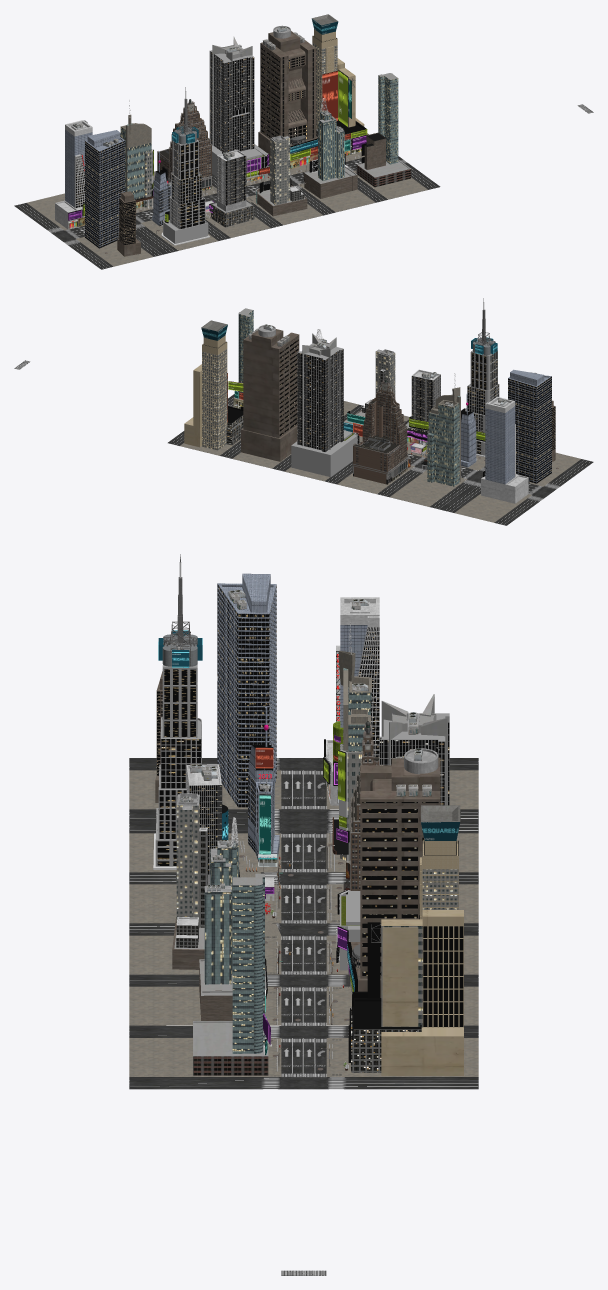
Rendered from timesquare-web.glb.
3 renders of one model, top to bottom at view 1: azimuth 30°, elevation 25°; view 2: azimuth 150°, elevation 25°; view 3: azimuth 270°, elevation 25°, orthographic. The views are drawn at different scales.
Parts seen in each view (by area): view 1: Plane.030, Cube.094, Cube.080, Cube.081, Cube.110, Cube.009, Plane.001, Cube.005, Cube.118, Plane.043, Cube.088, Cube.048 (+24 smaller); view 2: Cube.094, Plane.030, Cube.080, Cube.081, PB_Material #2_0, Cube.110, Cube.118, Cube.088, Plane.001, Cube.009, Cube.042, Cube.005 (+10 smaller); view 3: Plane.030, Cube.089, Cube.009, Cube.094, Plane.001, Cube.110, Plane.043, Cube.088, Cube.118, Plane.038, Cube.005, Cube.096 (+17 smaller).
Part boxes in pixels (x1,y1,x2,y2): Plane.030: (136, 146, 440, 253); Cube.094: (258, 31, 317, 168); Cube.080: (209, 44, 267, 182); Cube.081: (210, 46, 254, 153); Cube.110: (85, 141, 124, 248); Cube.009: (85, 130, 124, 248); Plane.001: (14, 193, 165, 269); Cube.005: (163, 139, 208, 243); Cube.118: (55, 120, 92, 229); Plane.043: (378, 73, 398, 164); Cube.088: (311, 14, 338, 129); Cube.048: (126, 123, 151, 208); Cube.094: (241, 329, 299, 461); Plane.030: (168, 391, 485, 509); Cube.080: (291, 343, 357, 477); Cube.081: (297, 349, 343, 451); PB_Material #2_0: (352, 378, 407, 484); Cube.110: (508, 376, 551, 483); Cube.118: (481, 396, 528, 503); Cube.088: (201, 320, 227, 450); Plane.001: (442, 452, 593, 525); Cube.009: (508, 369, 551, 483); Cube.042: (427, 400, 459, 486); Cube.005: (465, 350, 499, 455); Plane.030: (129, 821, 478, 1089); Cube.089: (381, 910, 463, 1075); Cube.009: (217, 573, 276, 806); Cube.094: (350, 757, 440, 997); Plane.001: (129, 758, 478, 821); Cube.110: (217, 585, 276, 807); Plane.043: (232, 873, 264, 1053); Cube.088: (419, 805, 460, 919); Cube.118: (326, 597, 379, 805); Plane.038: (204, 841, 238, 984); Cube.005: (155, 664, 201, 866); Cube.096: (362, 802, 438, 975).
Bounding box in the file's own units: 54.23 × 14.75 × 15.46.
169 materials, 93 textured.
